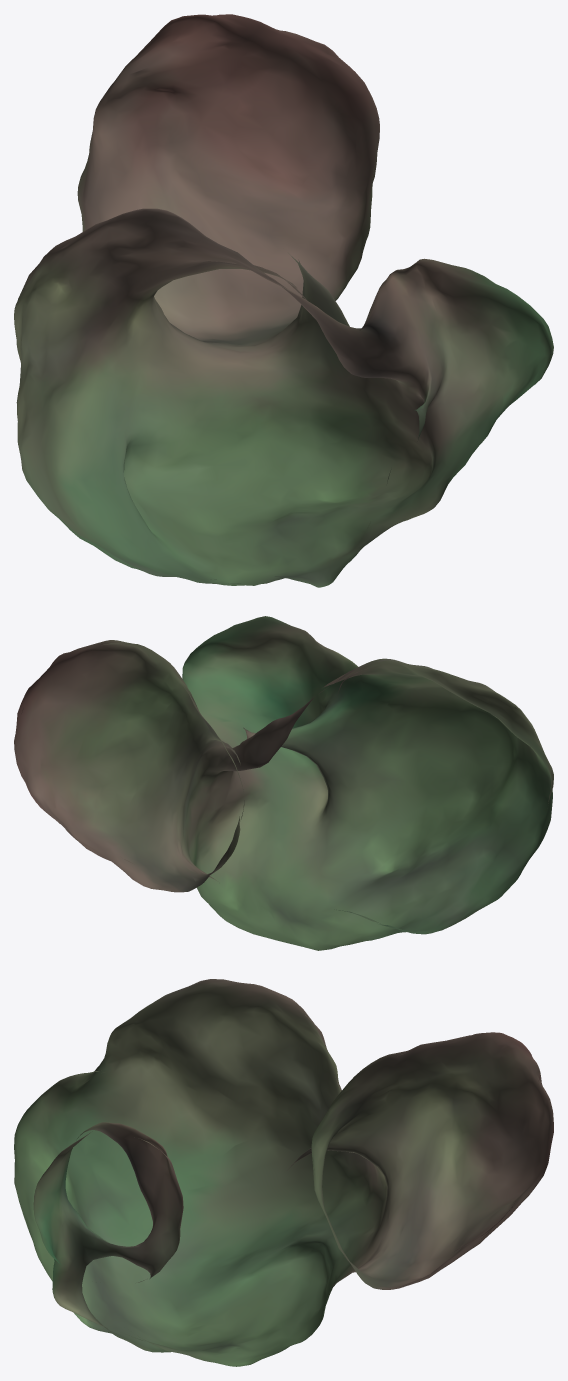
Rendered from Cloud1_LOD1.glb.
The picture shows the model from 3 angles, top to bottom: view 1: azimuth 30°, elevation 25°; view 2: azimuth 150°, elevation 25°; view 3: azimuth 270°, elevation 25°; orthographic projection. The views are drawn at different scales.
Parts seen in each view (by area): view 1: Cloud1_LOD1; view 2: Cloud1_LOD1; view 3: Cloud1_LOD1.
Part boxes in pixels (x1,y1,x2,y2): Cloud1_LOD1: (14, 14, 553, 587); Cloud1_LOD1: (14, 616, 553, 950); Cloud1_LOD1: (14, 979, 553, 1366).
Bounding box in the file's own units: 0.8411 × 0.6818 × 0.9464.
